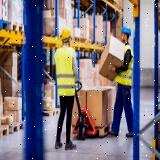Helmet: (60, 26, 72, 40), (120, 26, 131, 36)
Vest: (54, 45, 76, 97), (115, 44, 133, 89)
